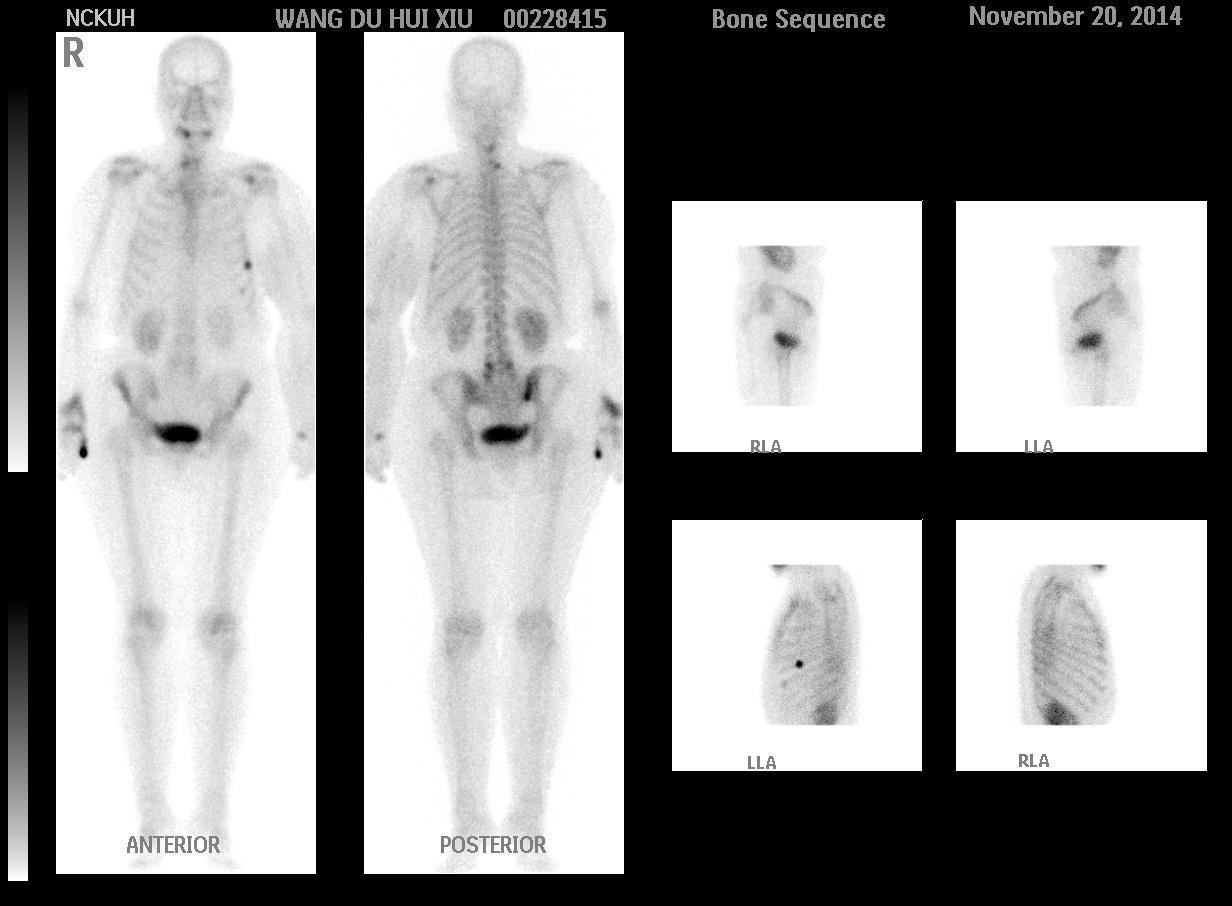person: (55, 31, 625, 876)
